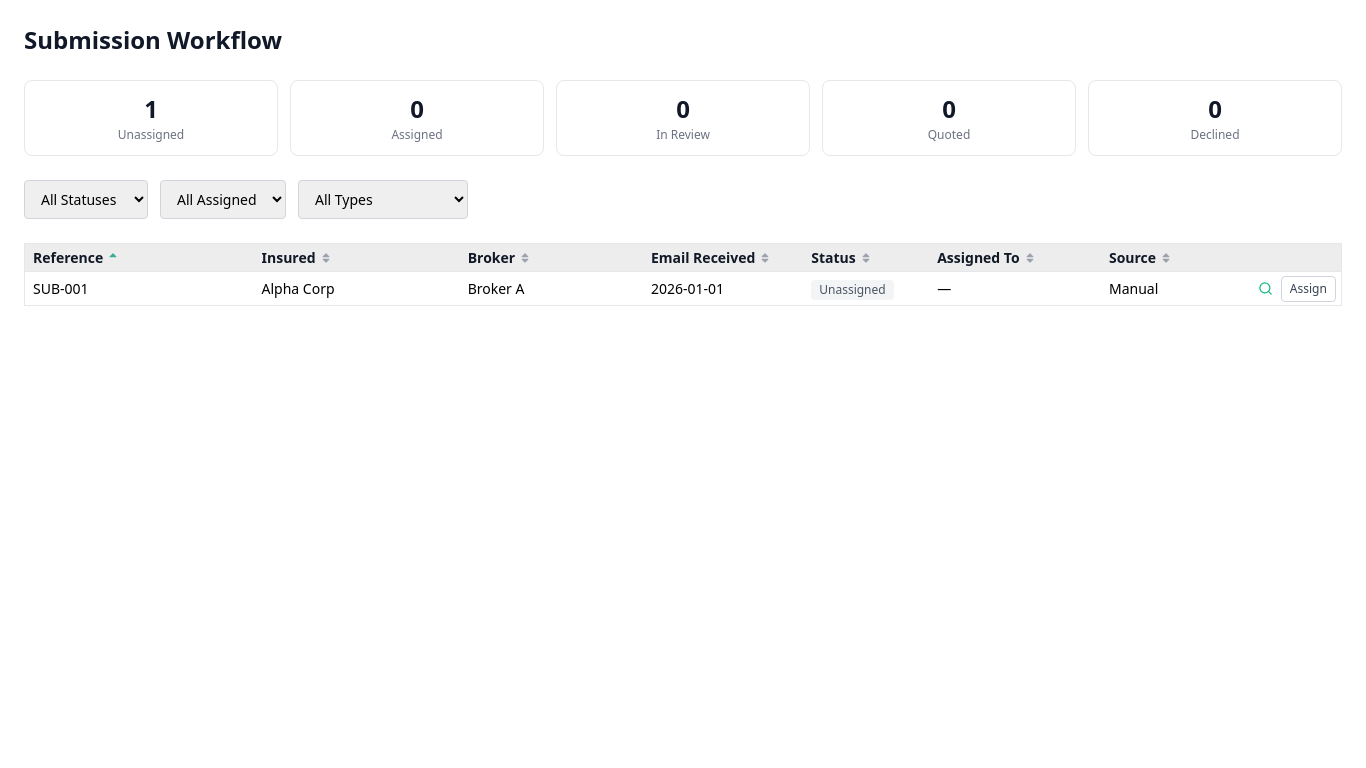
it: WorkflowPage — /workflow/submissions › T-WF-FE-F-R018 — clicking Assign opens assignment modal
Click the button "Assign": [1308, 289] box 1281,276 -> 1336,302
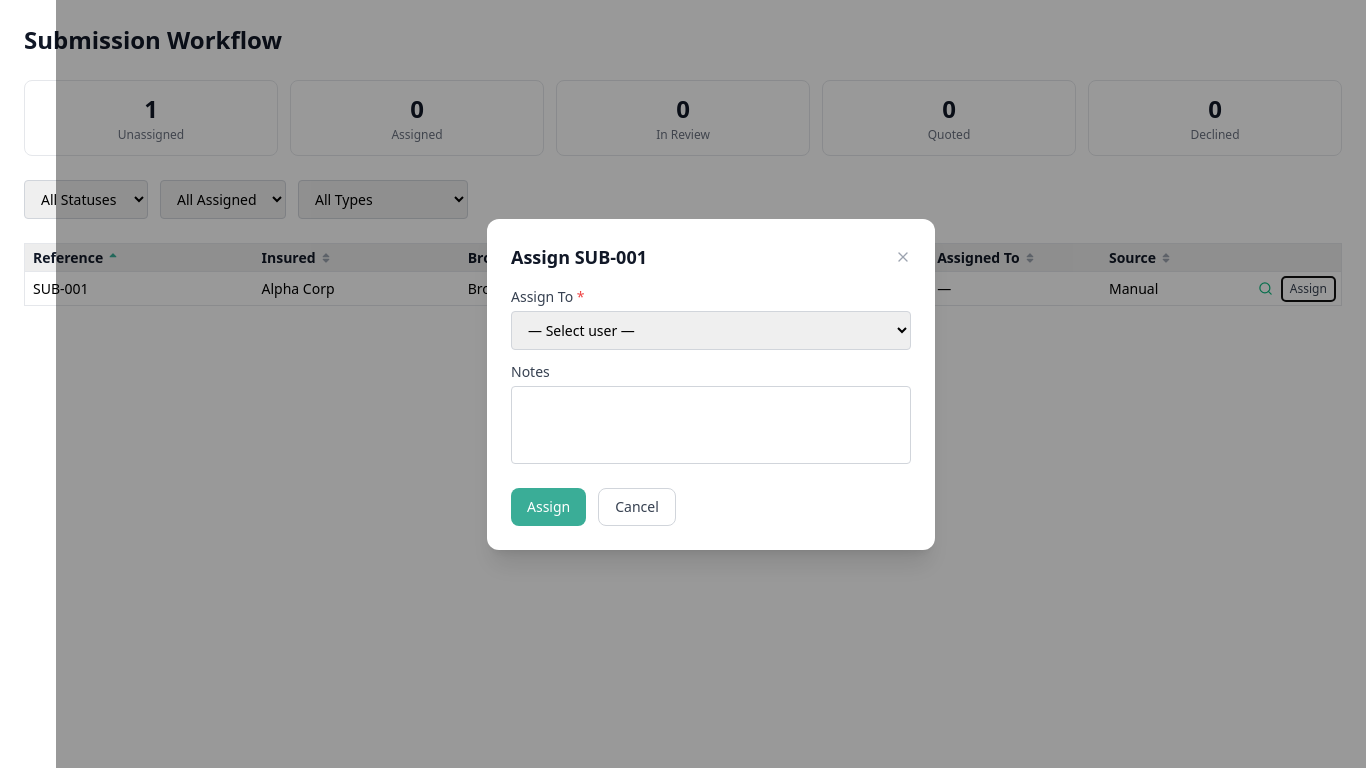
Result: the button "Cancel" is shown at 598,488 -> 676,526
